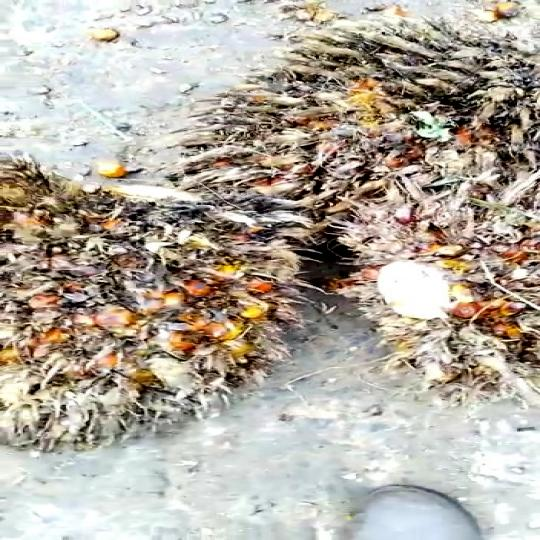terlalu masak: (0, 163, 311, 462), (170, 0, 539, 230)
